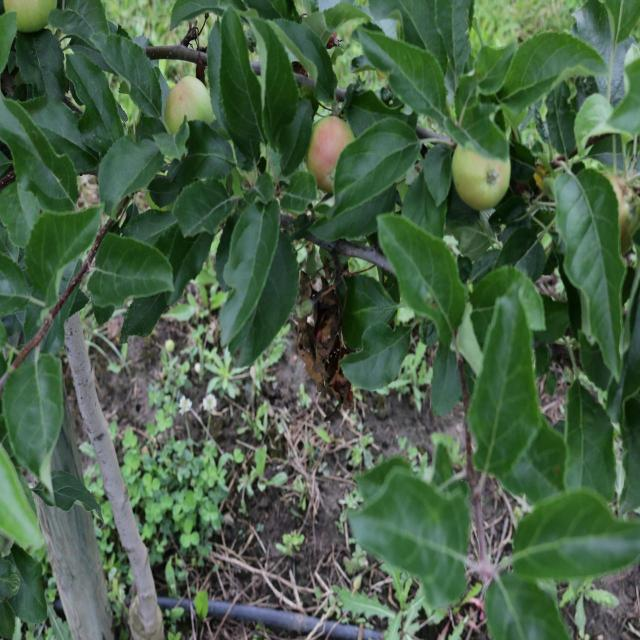-FireBlight-: (300, 256, 354, 414)
